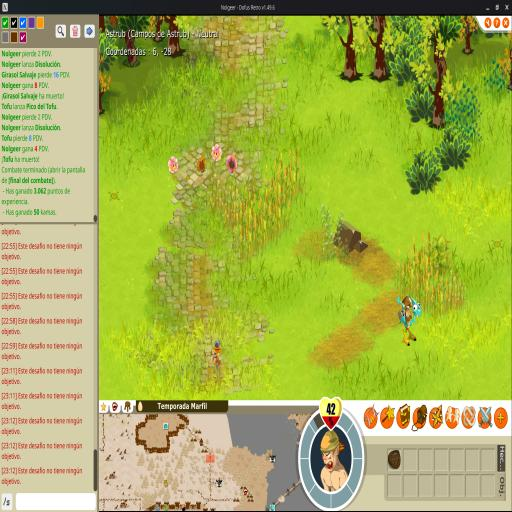Enemigos: (211, 142, 223, 164), (225, 154, 238, 174), (168, 155, 179, 176), (196, 154, 207, 174)
Personaje: (212, 340, 222, 378)
